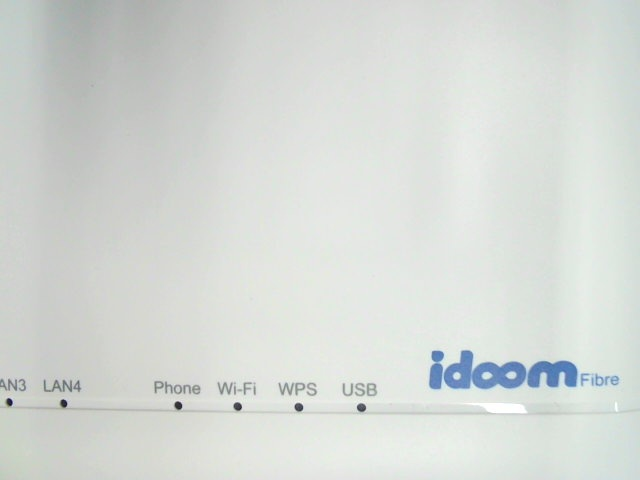BB_idoom: (420, 345, 619, 398)
